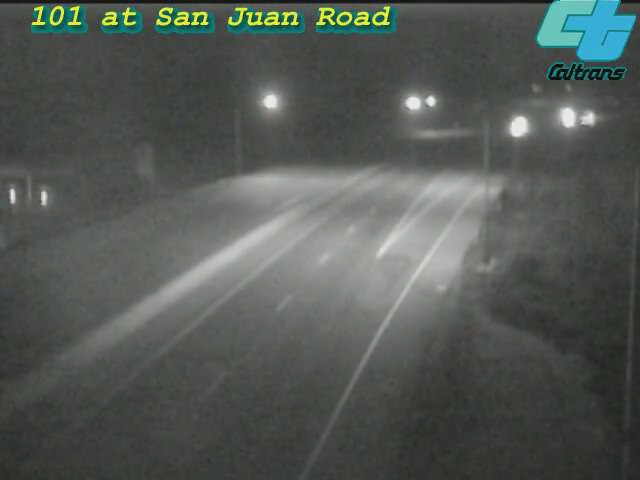vehicle: (564, 91, 614, 141), (491, 103, 541, 153), (497, 98, 547, 148), (541, 94, 591, 144)
